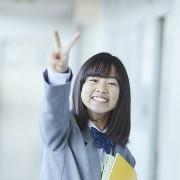tyoki: (48, 29, 81, 71)
